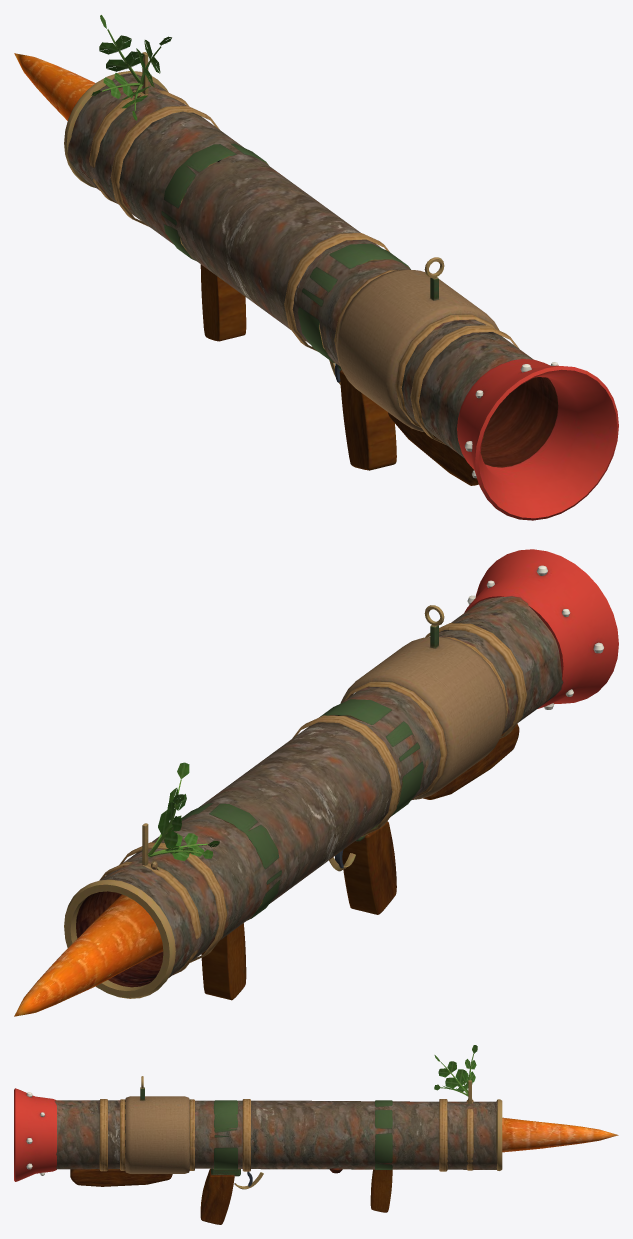
Rendered from carrot_rocket_launcher.glb.
3 renders of one model, top to bottom at view 1: azimuth 30°, elevation 25°; view 2: azimuth 150°, elevation 25°; view 3: azimuth 270°, elevation 25°, orthographic. The views are drawn at different scales.
Visible parts, largest first — view 1: carrot_rocket_launcher, Rocket; view 2: carrot_rocket_launcher, Rocket; view 3: carrot_rocket_launcher, Rocket.
Part boxes in pixels (<box>): carrot_rocket_launcher: <box>64,15,618,520</box>; Rocket: <box>14,53,95,124</box>; carrot_rocket_launcher: <box>64,549,618,1000</box>; Rocket: <box>14,894,163,1016</box>; carrot_rocket_launcher: <box>14,1045,502,1224</box>; Rocket: <box>502,1117,618,1152</box>.
Size of the model in its own units: 0.158 by 0.3064 by 1.02.
Materials: 1 (1 with a texture image).
